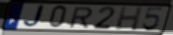0: (47, 4, 69, 30)
2: (93, 5, 117, 30)
5: (141, 6, 164, 32)
H: (114, 6, 144, 32)
J: (22, 5, 49, 29)
R: (68, 7, 94, 29)
